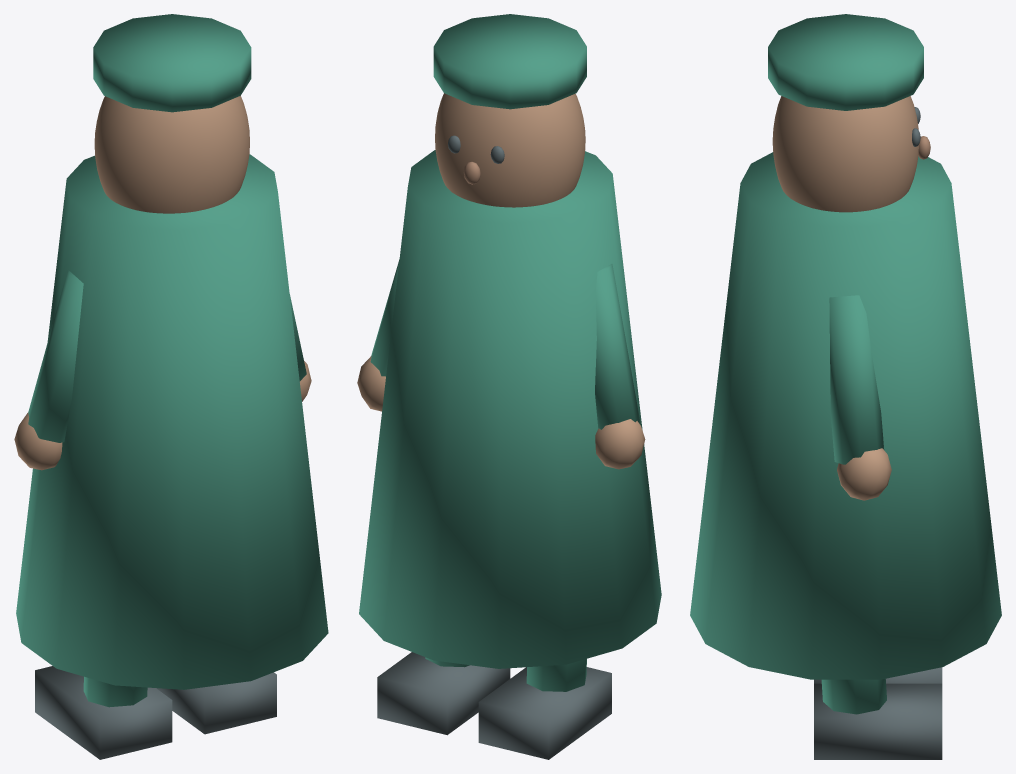
File: pedestrian.glb
3 views of the same model, side by side, from view 1: azimuth 30°, elevation 25°; view 2: azimuth 150°, elevation 25°; view 3: azimuth 270°, elevation 25° (orthographic). The views are drawn at different scales.
Parts seen in each view (by area): view 1: pedestrian_mat_00_boubou_or_uniform, pedestrian_mat_01_head, pedestrian_mat_02_eye_-1; view 2: pedestrian_mat_00_boubou_or_uniform, pedestrian_mat_01_head, pedestrian_mat_02_eye_-1; view 3: pedestrian_mat_00_boubou_or_uniform, pedestrian_mat_01_head, pedestrian_mat_02_eye_-1.
Boxes of the visible parts, x1,y1,x2,y2 form: pedestrian_mat_00_boubou_or_uniform: (16,14,328,707); pedestrian_mat_01_head: (14,95,311,470); pedestrian_mat_02_eye_-1: (35,666,276,759); pedestrian_mat_00_boubou_or_uniform: (359,14,661,691); pedestrian_mat_01_head: (357,93,645,469); pedestrian_mat_02_eye_-1: (377,135,611,759); pedestrian_mat_00_boubou_or_uniform: (690,14,1001,714); pedestrian_mat_01_head: (772,96,918,500); pedestrian_mat_02_eye_-1: (814,107,942,759).
Size of the model in its own units: 0.72 by 1.61 by 0.68.
